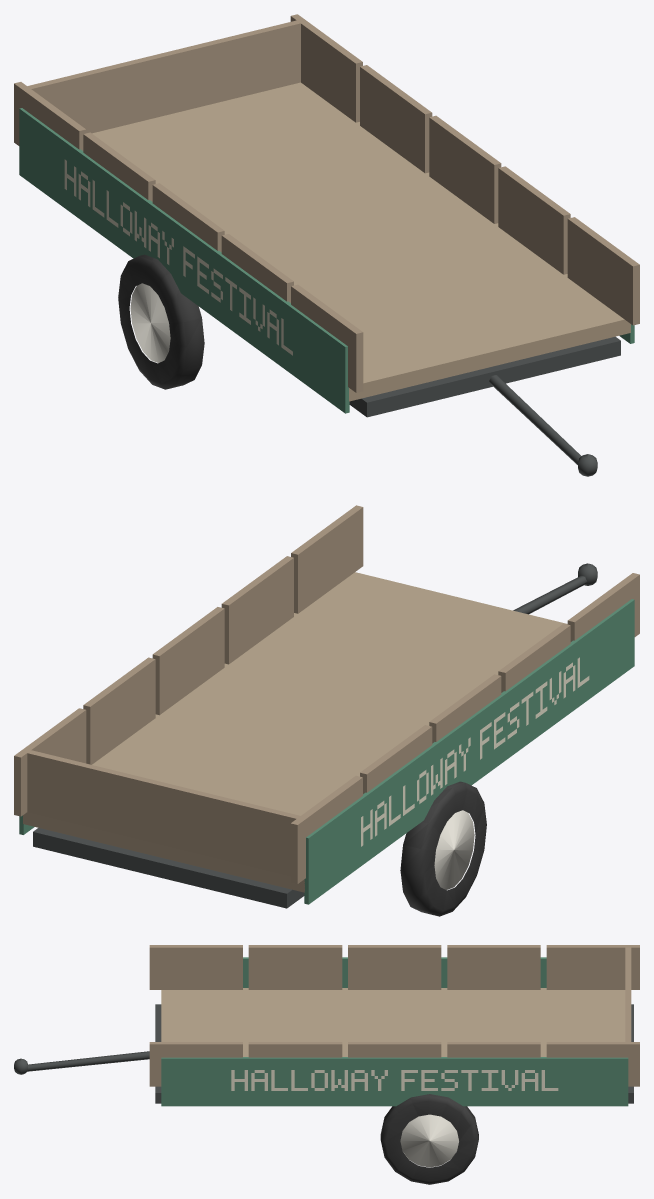
Rendered from parade_trailer_a.glb.
3 views of the same model, one above another, from view 1: azimuth 30°, elevation 25°; view 2: azimuth 150°, elevation 25°; view 3: azimuth 270°, elevation 25° (orthographic). The views are drawn at different scales.
Visible parts, largest first — view 1: body, wheel_r; view 2: body, wheel_r; view 3: body, wheel_l.
Part boxes in pixels (x1,y1,x2,y2): body: (14,14,639,476); wheel_r: (118,254,204,389); body: (14,505,639,908); wheel_r: (400,781,486,916); body: (14,945,639,1106); wheel_l: (380,1094,478,1184).
Size of what is drawn, in the model's own units: 2.17 by 1.3 by 5.36.
